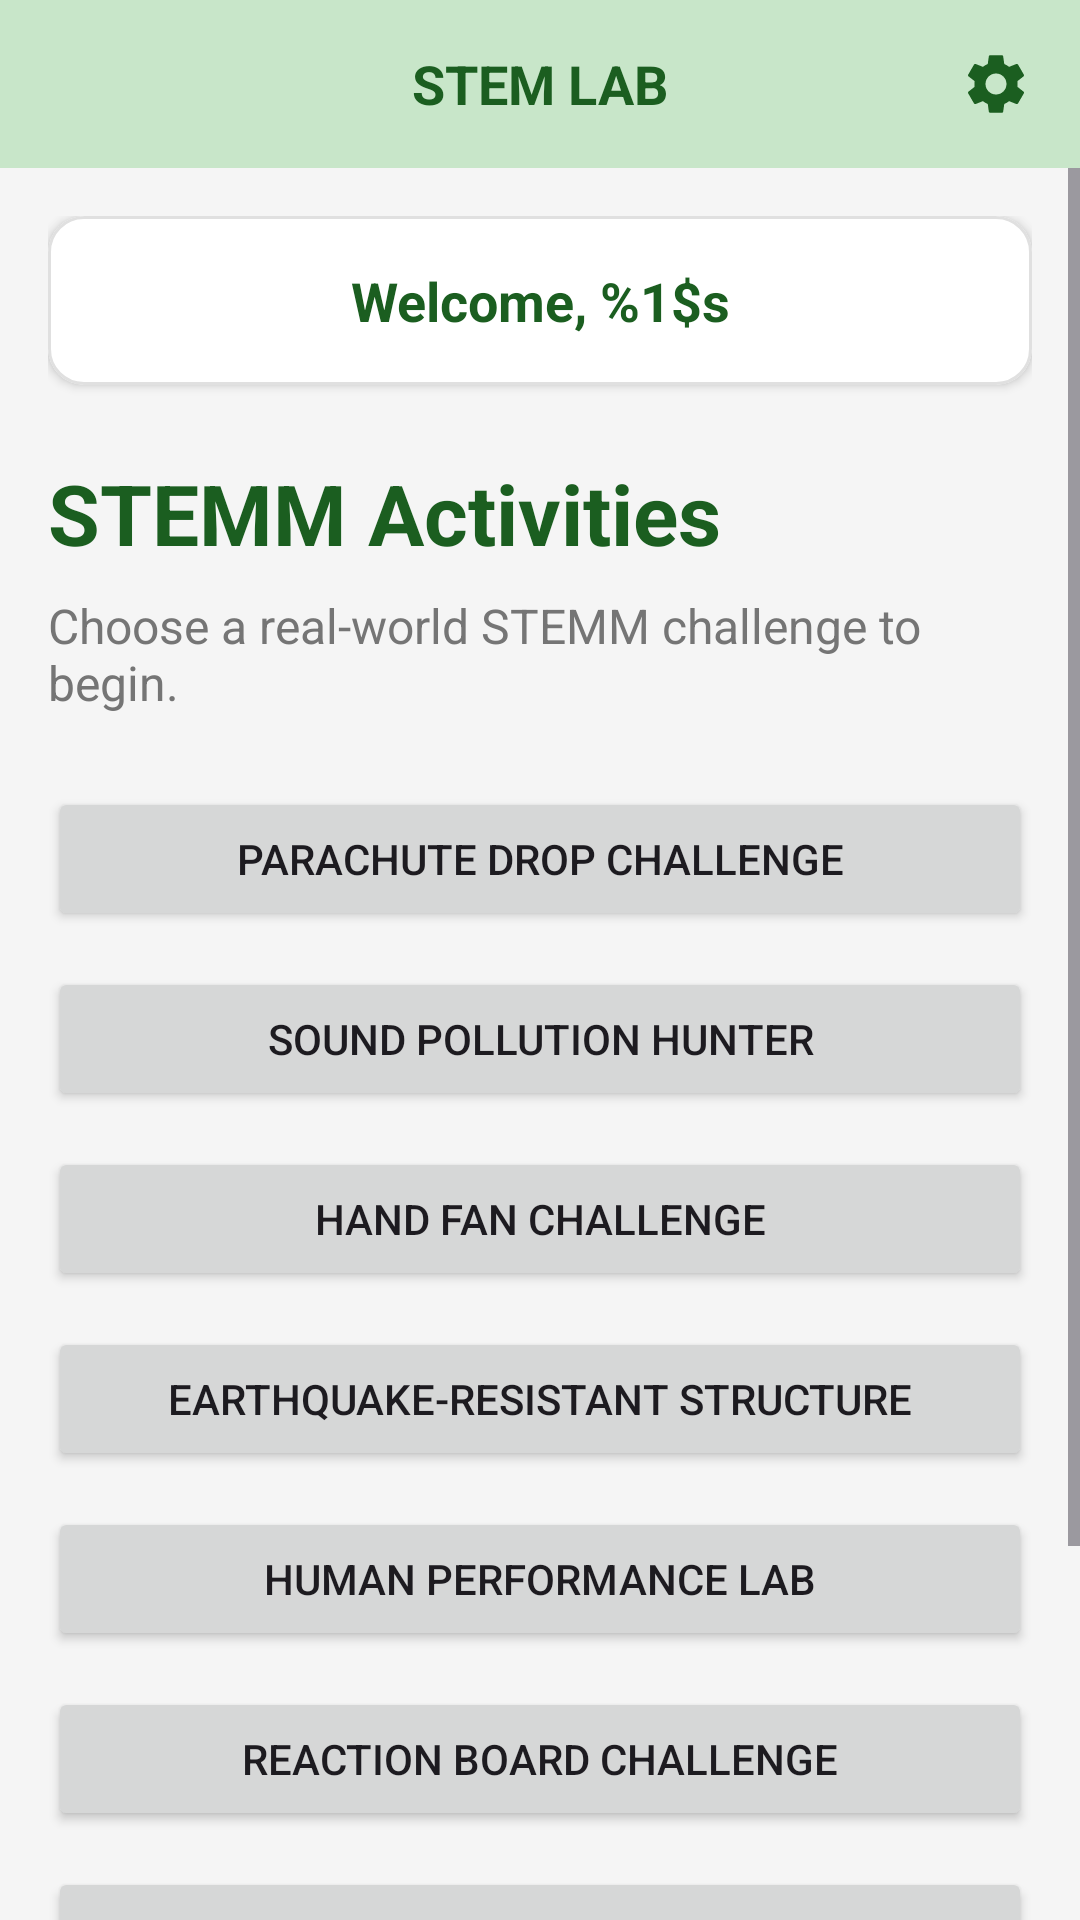

Locate icon controls on the screen. Image size 1080×1920, boxes as region(x1, y1, x2, y2).
Settings: region(968, 55, 1024, 113)
